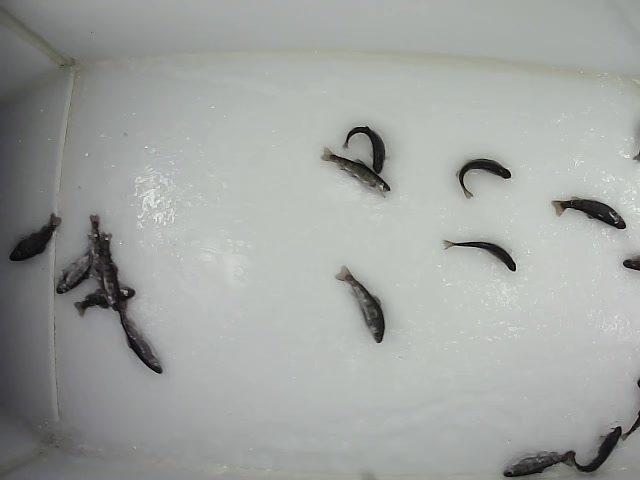fish: (334, 265, 386, 345), (318, 148, 393, 193), (118, 304, 164, 376), (455, 155, 520, 200), (6, 211, 62, 263), (439, 238, 519, 274), (551, 197, 627, 231), (341, 124, 389, 175), (73, 285, 136, 318), (502, 449, 574, 477), (55, 243, 96, 291)
